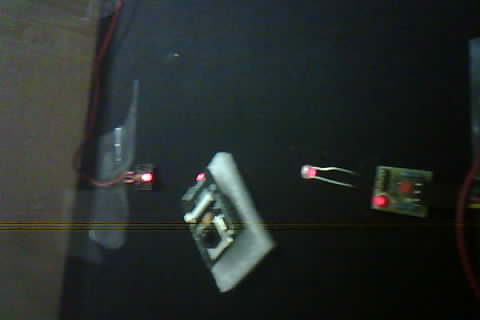esp32: (177, 151, 279, 293)
